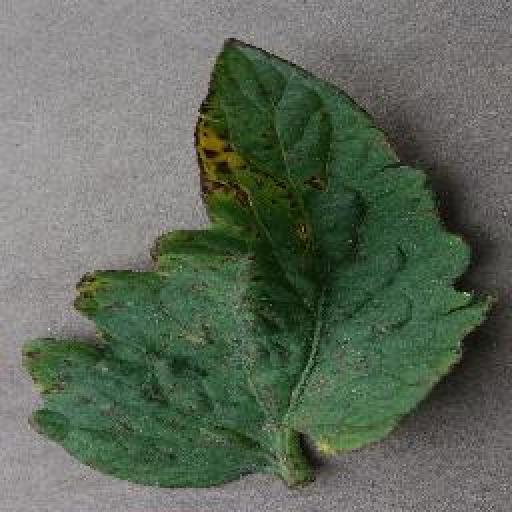Bacterial Spot: (18, 22, 500, 498)
